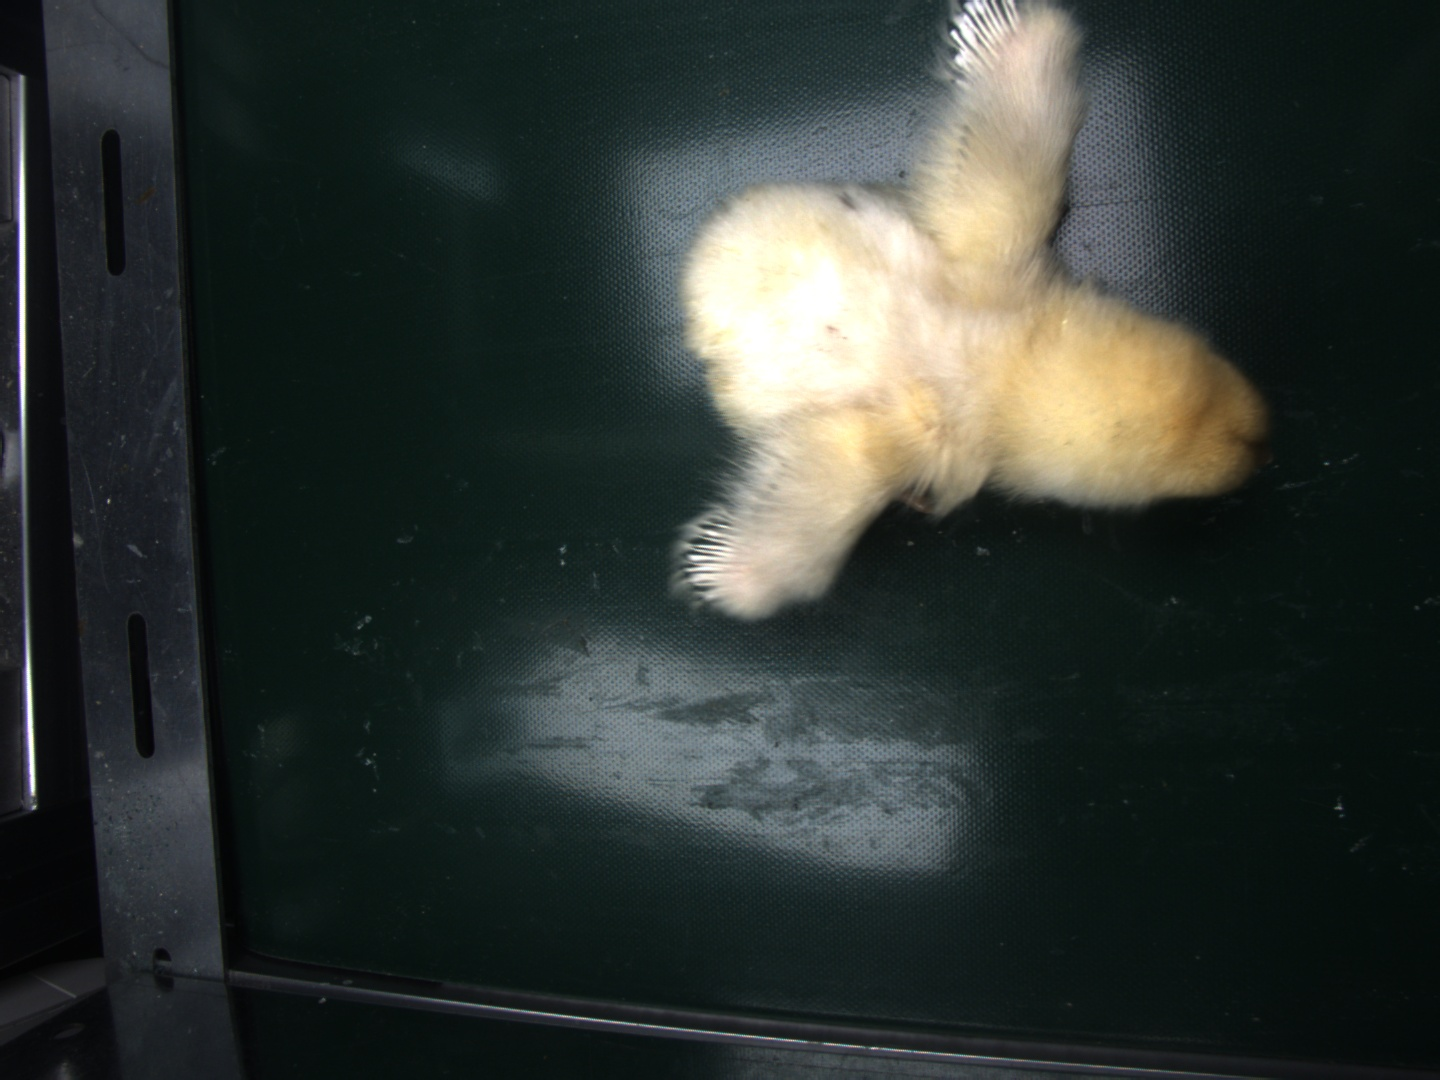male: (683, 509, 747, 599), (948, 1, 1025, 75)
